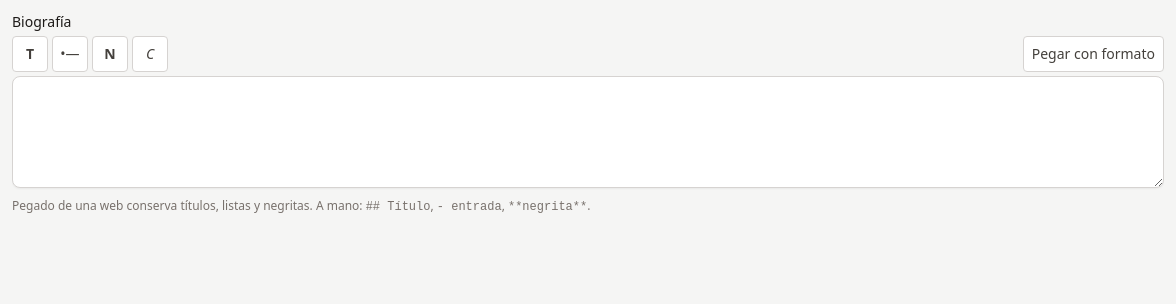
Test: el campo de un texto con marcas › «Pegar con formato» lee el portapapeles del sistema, que en el móvil es la única vía al HTML
Click the button "Pegar con formato".
click(1093, 54)  # box [1023,36,1164,72]
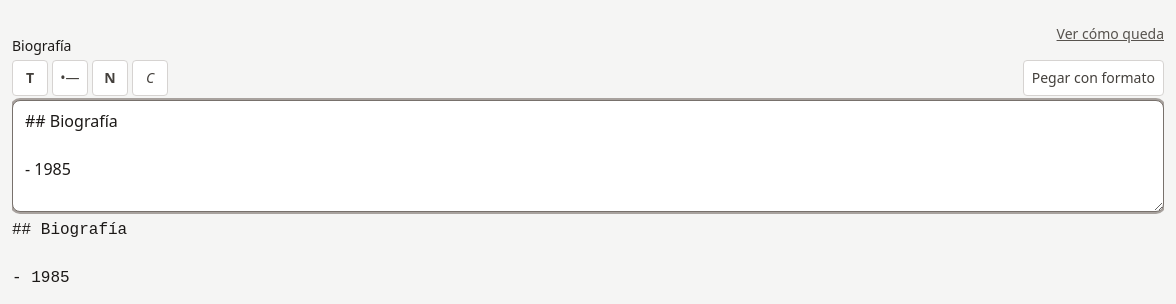
Expected: the text "## Biografía" is shown, [12,221,127,287]
Expected: the text "- 1985" is shown, [12,221,127,287]
